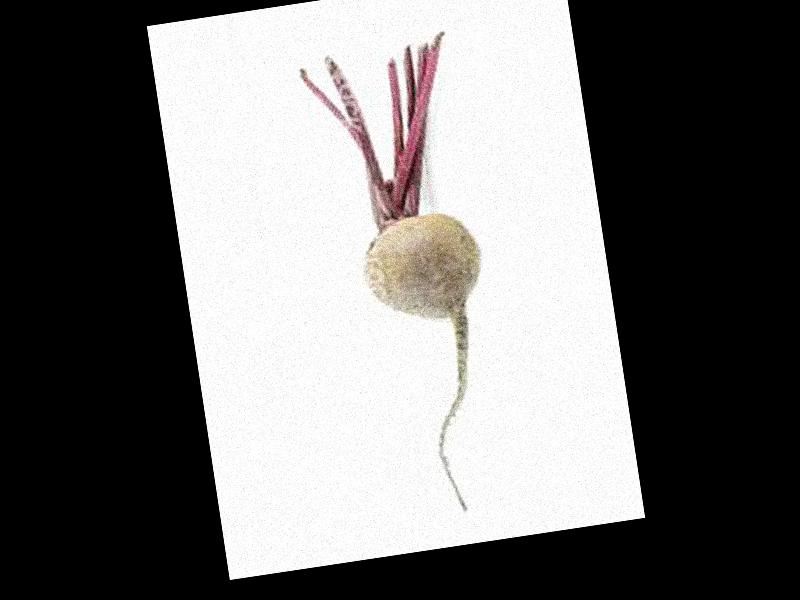Beet: (300, 33, 516, 528)
